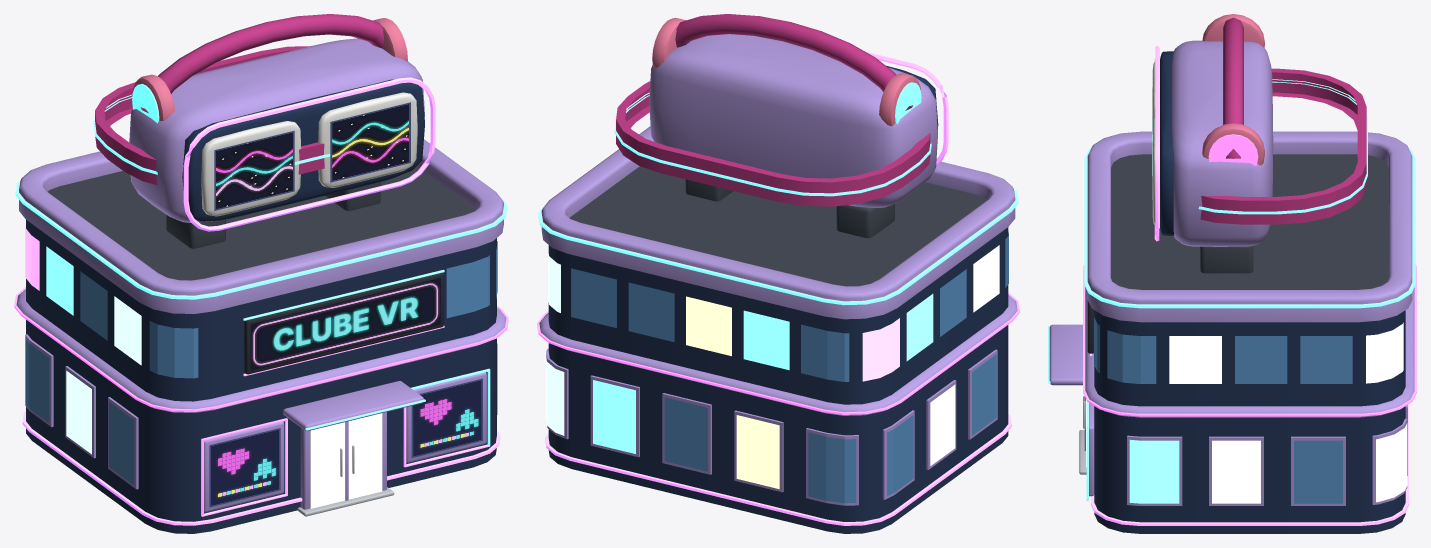
File: clube_vr.glb
3 renders of one model, left to right at view 1: azimuth 30°, elevation 25°; view 2: azimuth 150°, elevation 25°; view 3: azimuth 270°, elevation 25°, orthographic. The views are drawn at different scales.
Visible parts, largest first — view 1: clube_vr; view 2: clube_vr; view 3: clube_vr.
Part boxes in pixels (x1,y1,x2,y2): clube_vr: [14, 14, 508, 533]; clube_vr: [537, 14, 1019, 533]; clube_vr: [1048, 14, 1416, 533].
Size of the model in its own units: 12.28 by 13.66 by 11.14.
Materials: 14 (5 with a texture image).
